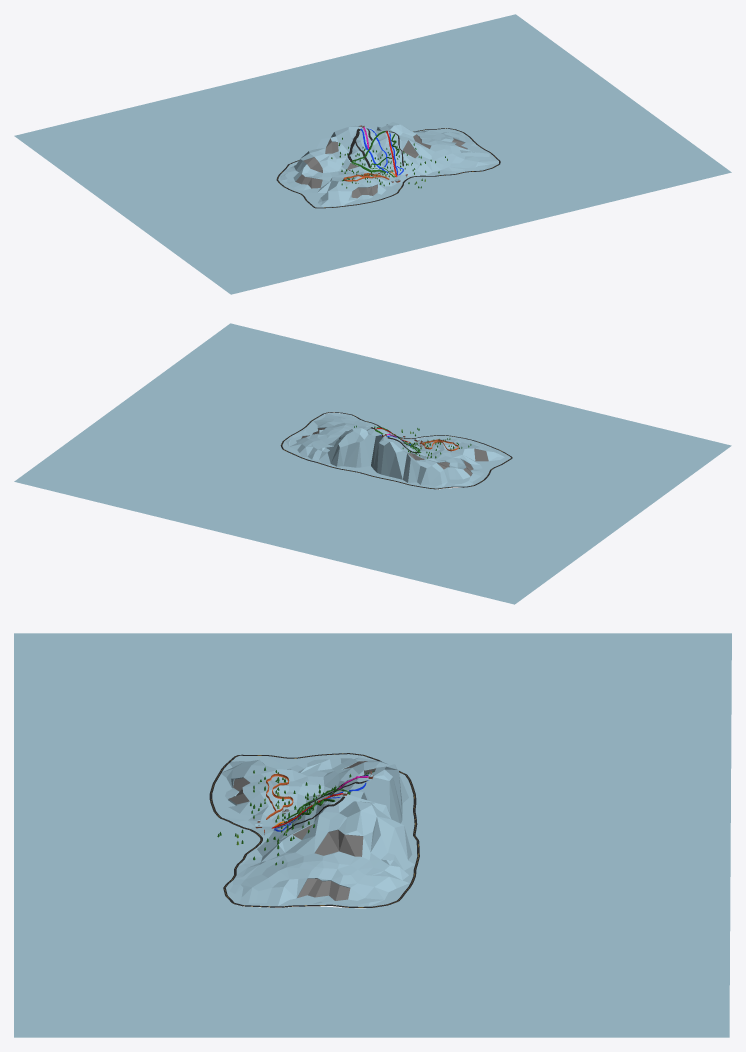
The model's file is mountainMain.glb.
The picture shows the model from 3 angles, top to bottom: view 1: azimuth 30°, elevation 25°; view 2: azimuth 150°, elevation 25°; view 3: azimuth 270°, elevation 25°; orthographic projection. The views are drawn at different scales.
Visible parts, largest first — view 1: largePlane, mountainMain, cliffs, road; view 2: largePlane, mountainMain, road; view 3: largePlane, mountainMain, cliffs, road, forest.
Part boxes in pixels (left/top/right/bottom): largePlane: left=14, top=14, right=731, bottom=294; mountainMain: left=277, top=122, right=498, bottom=208; cliffs: left=295, top=134, right=466, bottom=198; road: left=276, top=128, right=500, bottom=208; largePlane: left=14, top=323, right=731, bottom=604; mountainMain: left=282, top=412, right=510, bottom=488; road: left=280, top=412, right=512, bottom=489; largePlane: left=14, top=633, right=731, bottom=1037; mountainMain: left=212, top=754, right=417, bottom=906; cliffs: left=229, top=761, right=375, bottom=900; road: left=209, top=753, right=419, bottom=907; forest: left=217, top=767, right=373, bottom=865.
Size of the model in its own units: 4719 by 305 by 3540.
